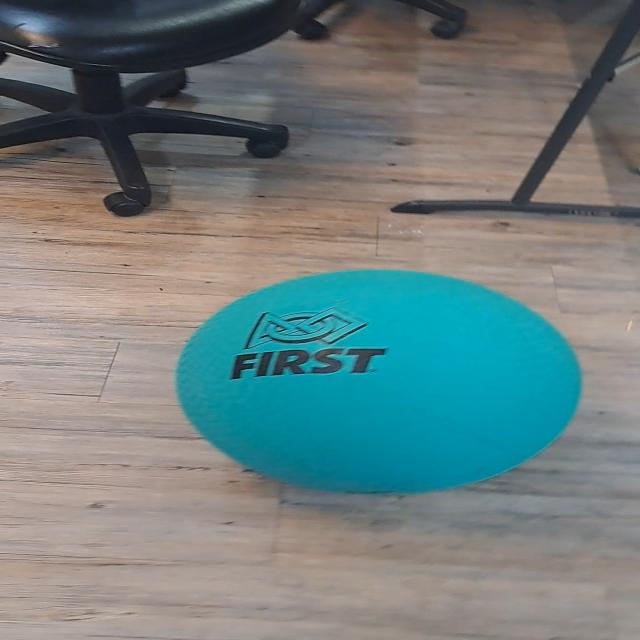ALGAE: (172, 266, 584, 496)
